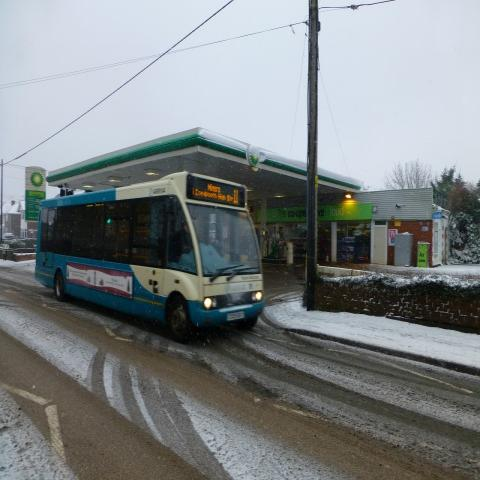bus: (35, 170, 263, 348)
